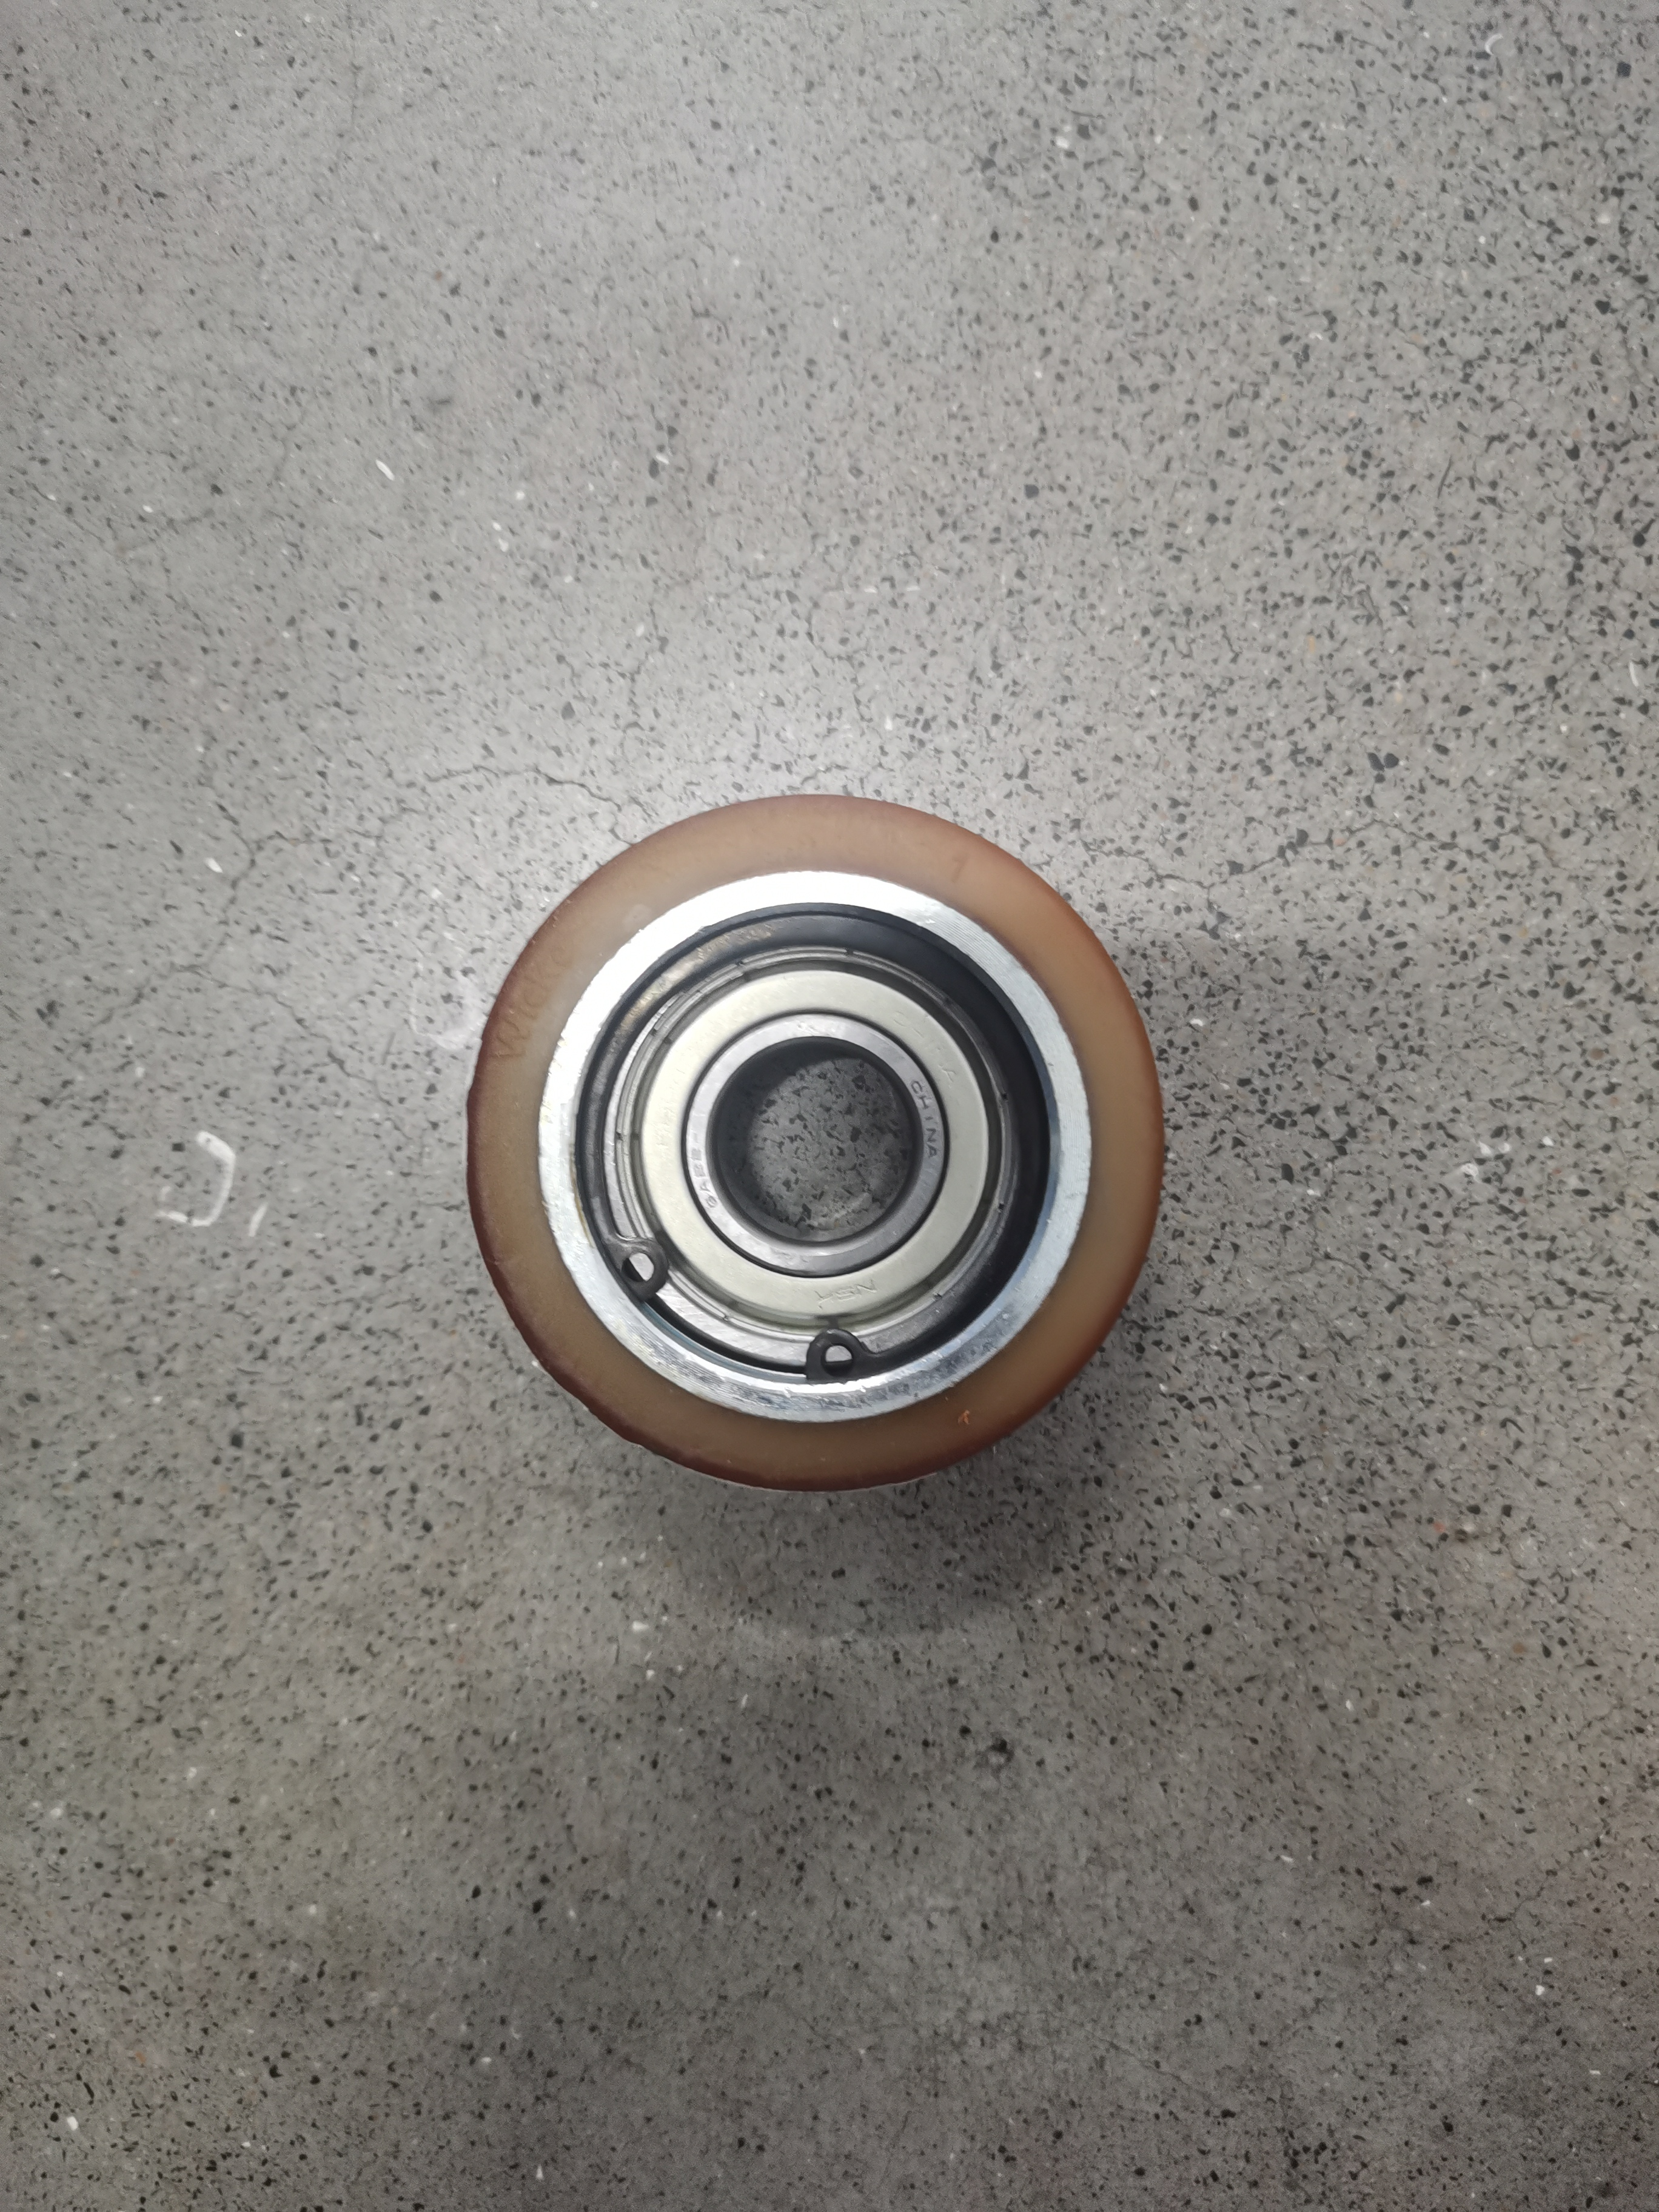good_wheel: (443, 765, 1190, 1487)
